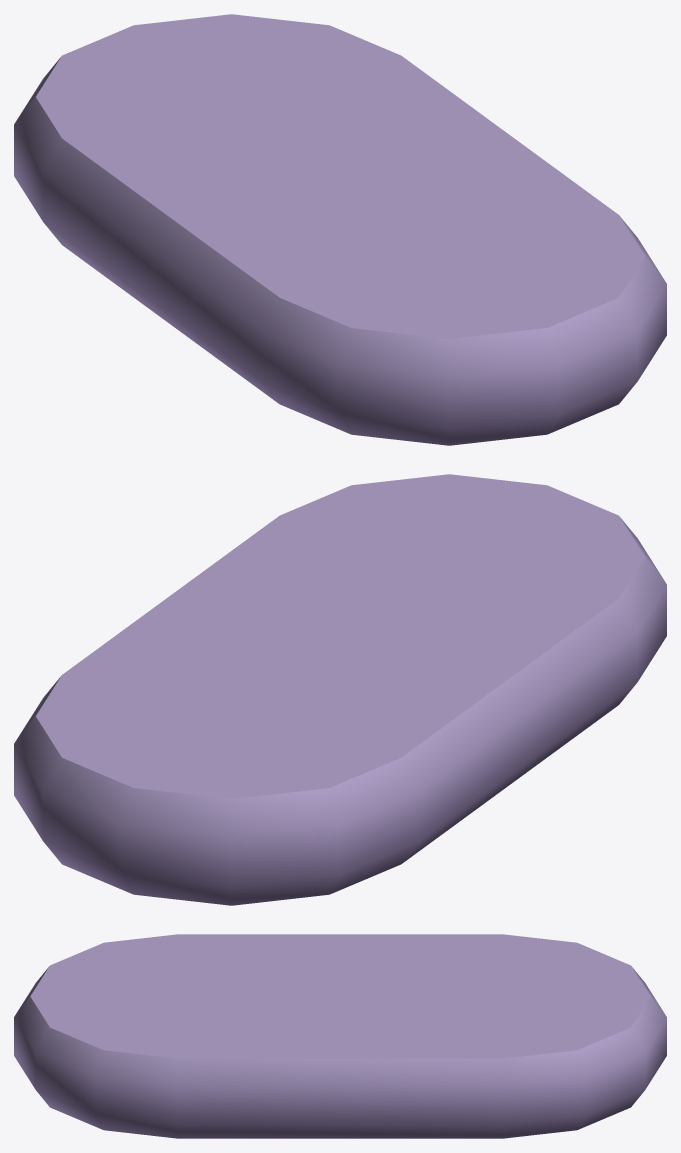
The model's file is cushion-round-wide_0.glb.
3 views of the same model, one above another, from view 1: azimuth 30°, elevation 25°; view 2: azimuth 150°, elevation 25°; view 3: azimuth 270°, elevation 25° (orthographic). The views are drawn at different scales.
Visible parts, largest first — view 1: cushion-round-wide; view 2: cushion-round-wide; view 3: cushion-round-wide.
Boxes of the visible parts, bbox=[...] form: cushion-round-wide: bbox=[14, 14, 666, 445]; cushion-round-wide: bbox=[14, 474, 666, 905]; cushion-round-wide: bbox=[14, 934, 666, 1138].
Size of the model in its own units: 0.5 by 0.1352 by 1.
